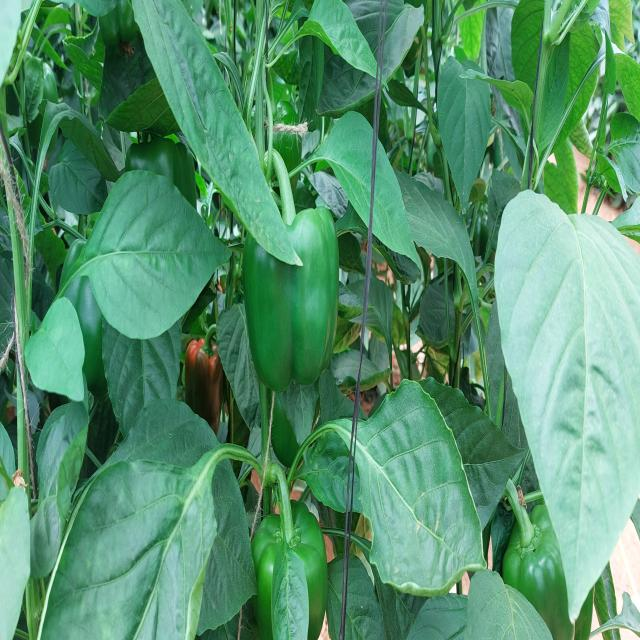Green--Not-ready-to-harvest: (244, 178, 340, 418), (499, 505, 579, 640), (262, 508, 337, 640)
